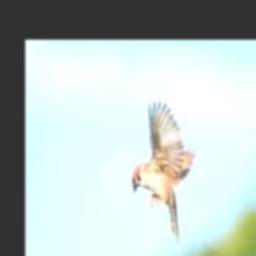Sparrow: (131, 101, 196, 243)
